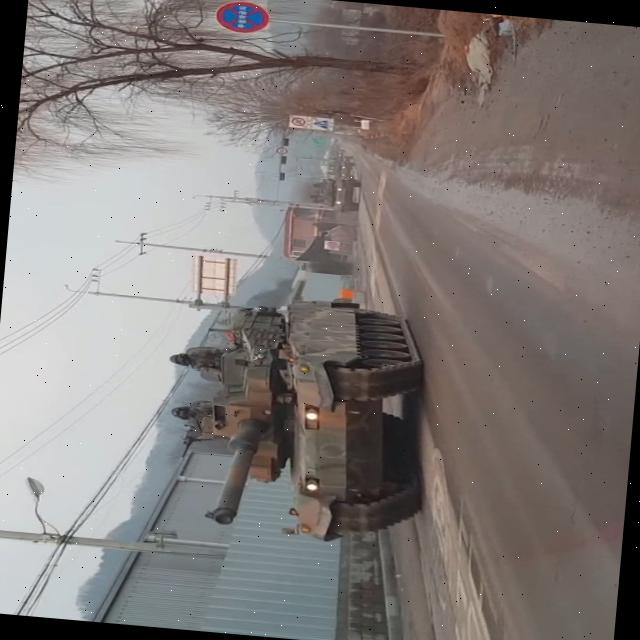korea tank: (151, 284, 444, 553)
